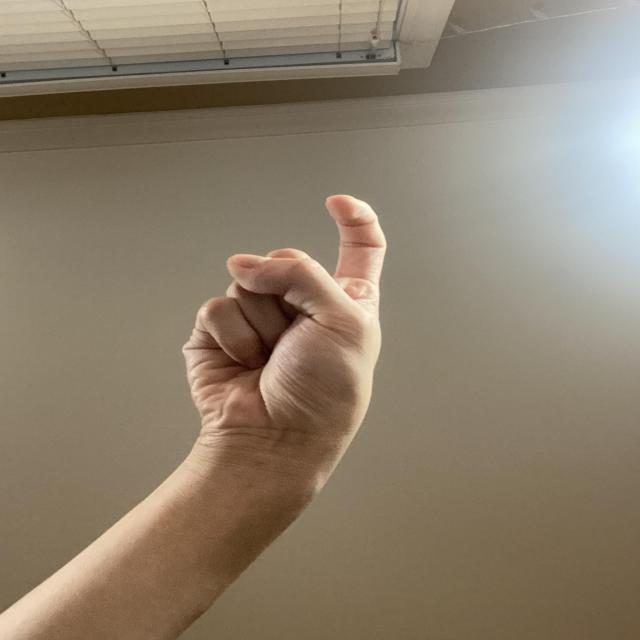X: (167, 186, 396, 498)
